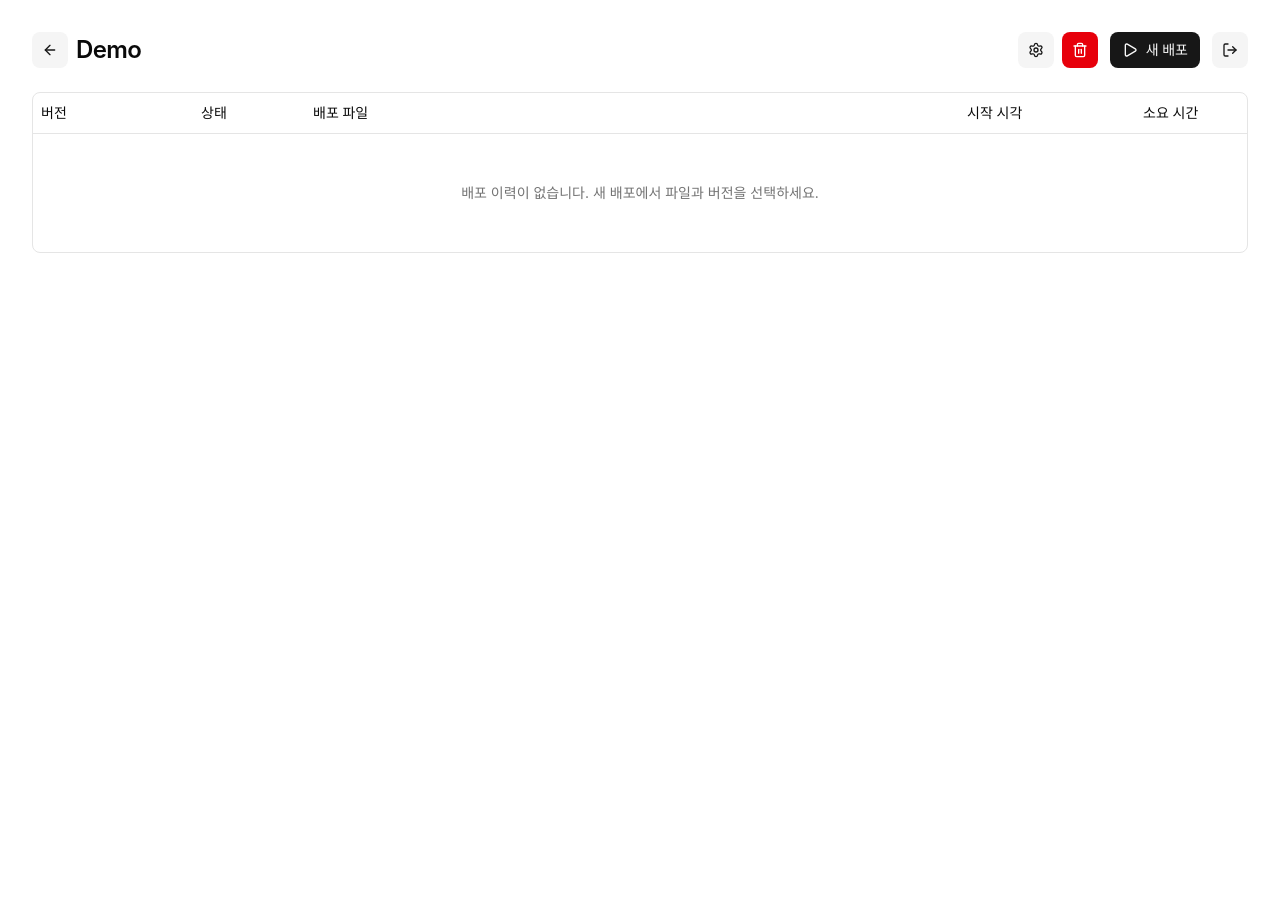
React deployment console › project management respects server busy state and keeps failed edits open
Expected: the heading "Demo" is shown, top-left (76, 32), bottom-right (141, 68)
Click the button named "설정" at (1036, 50), box top-left (1018, 32), bottom-right (1054, 68)
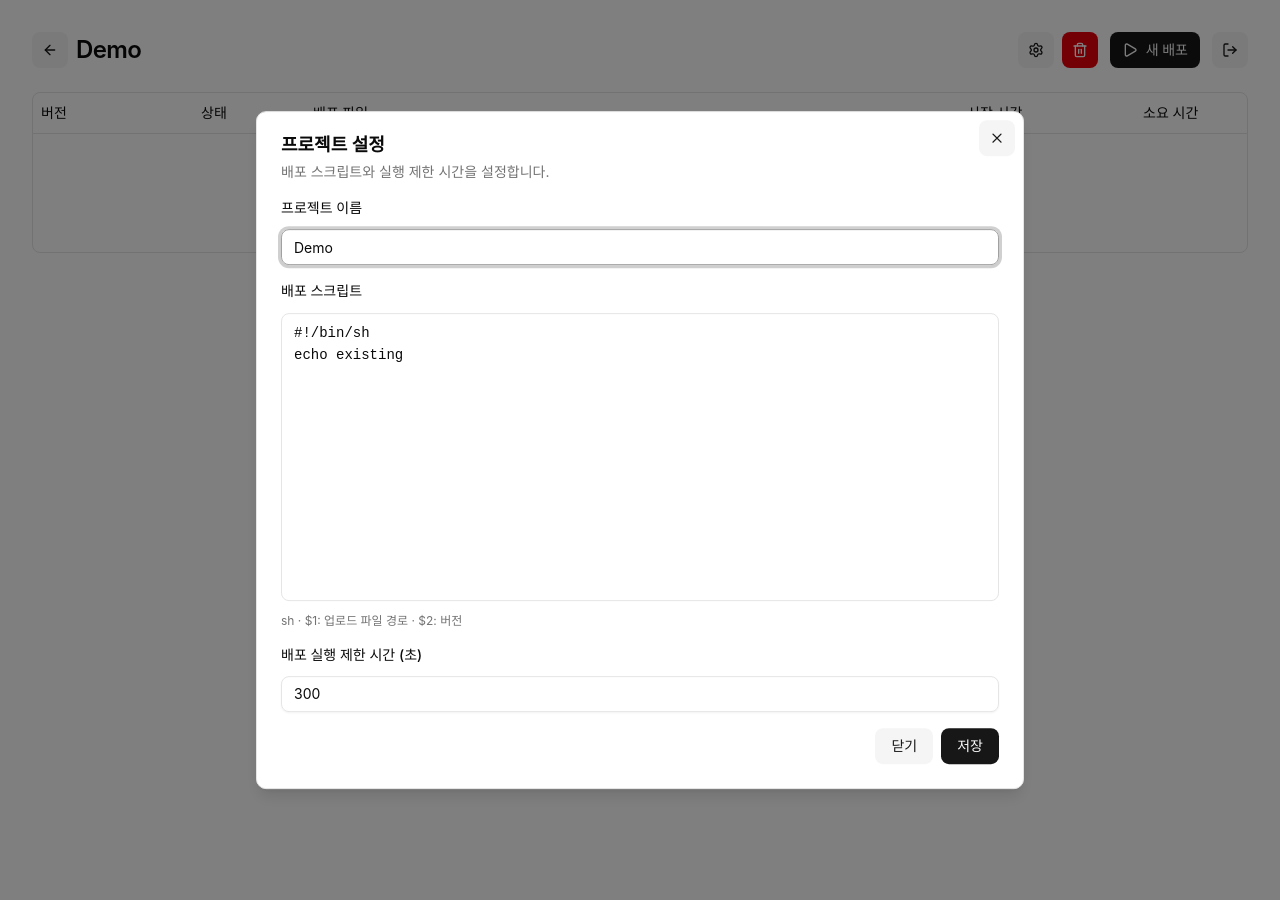
Click the button "저장" at (970, 746), box top-left (941, 728), bottom-right (999, 764)
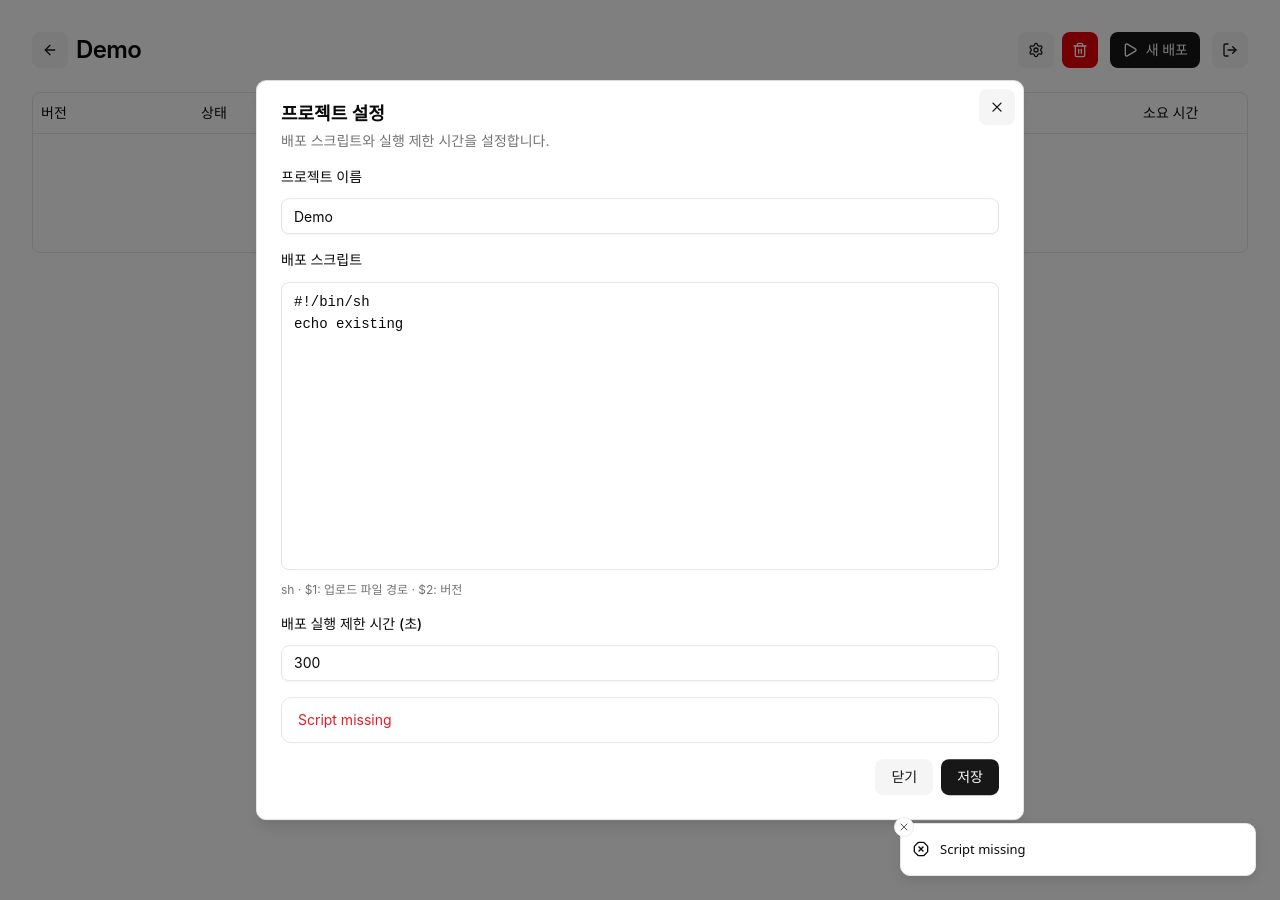
Expected: the field labelled "프로젝트 이름" is shown, top-left (281, 198), bottom-right (999, 234)
Expected: the text "Script missing" is shown, top-left (298, 711), bottom-right (392, 728)
Click the button "닫기" at (904, 777), box top-left (876, 759), bottom-right (933, 795)
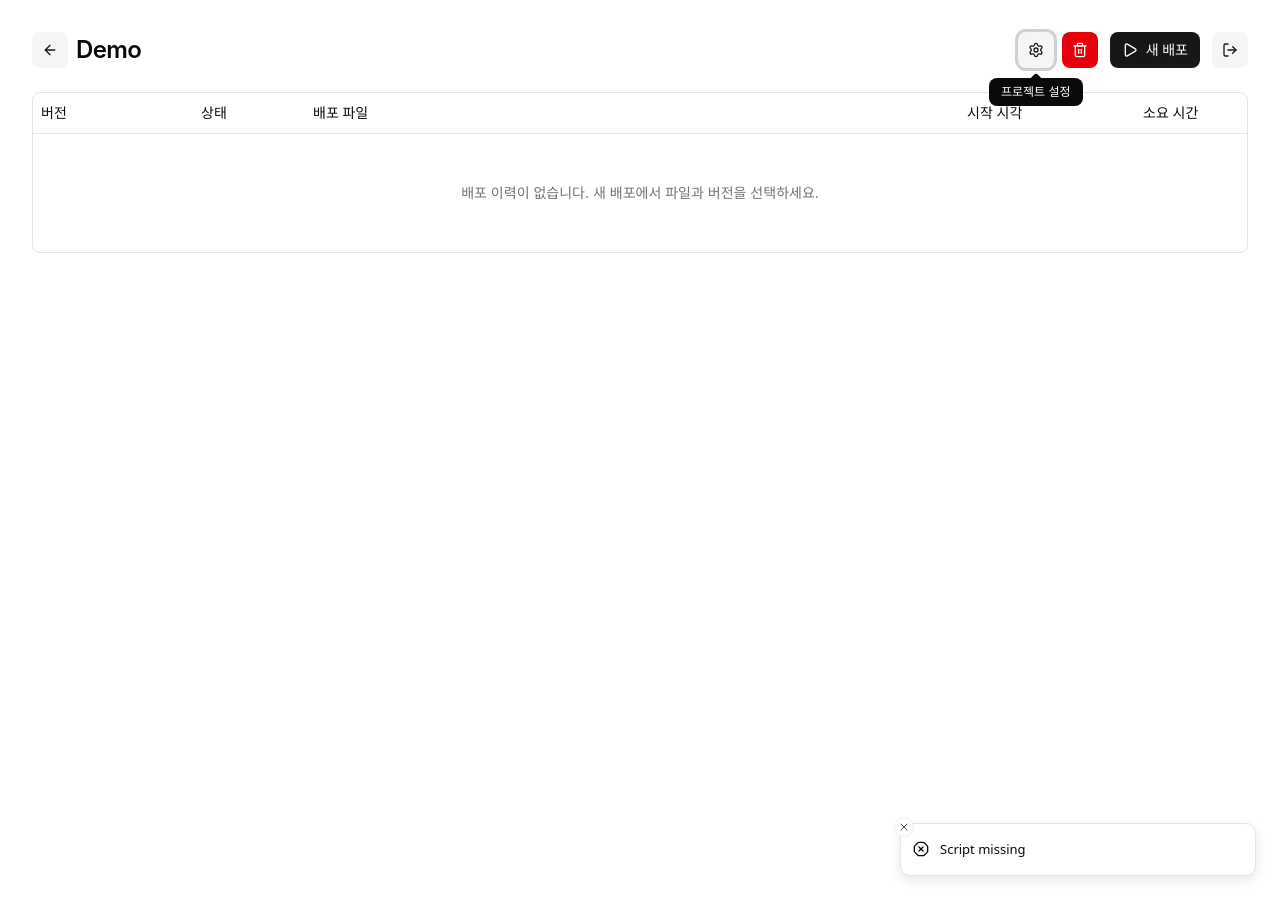
Click the link named "프로젝트 목록" at (50, 50), box top-left (32, 32), bottom-right (68, 68)
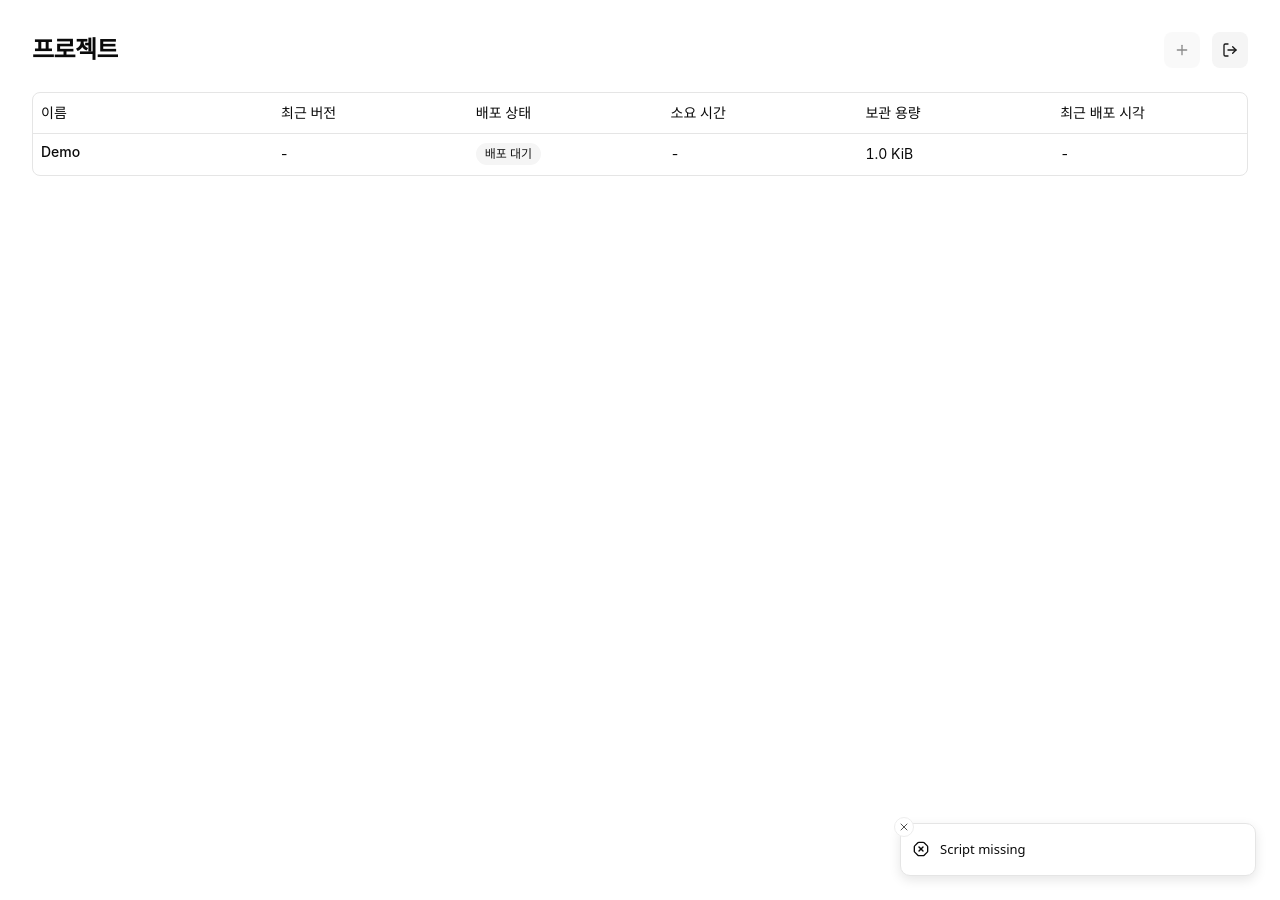
Expected: the button named "등록" is disabled, top-left (1164, 32), bottom-right (1200, 68)
